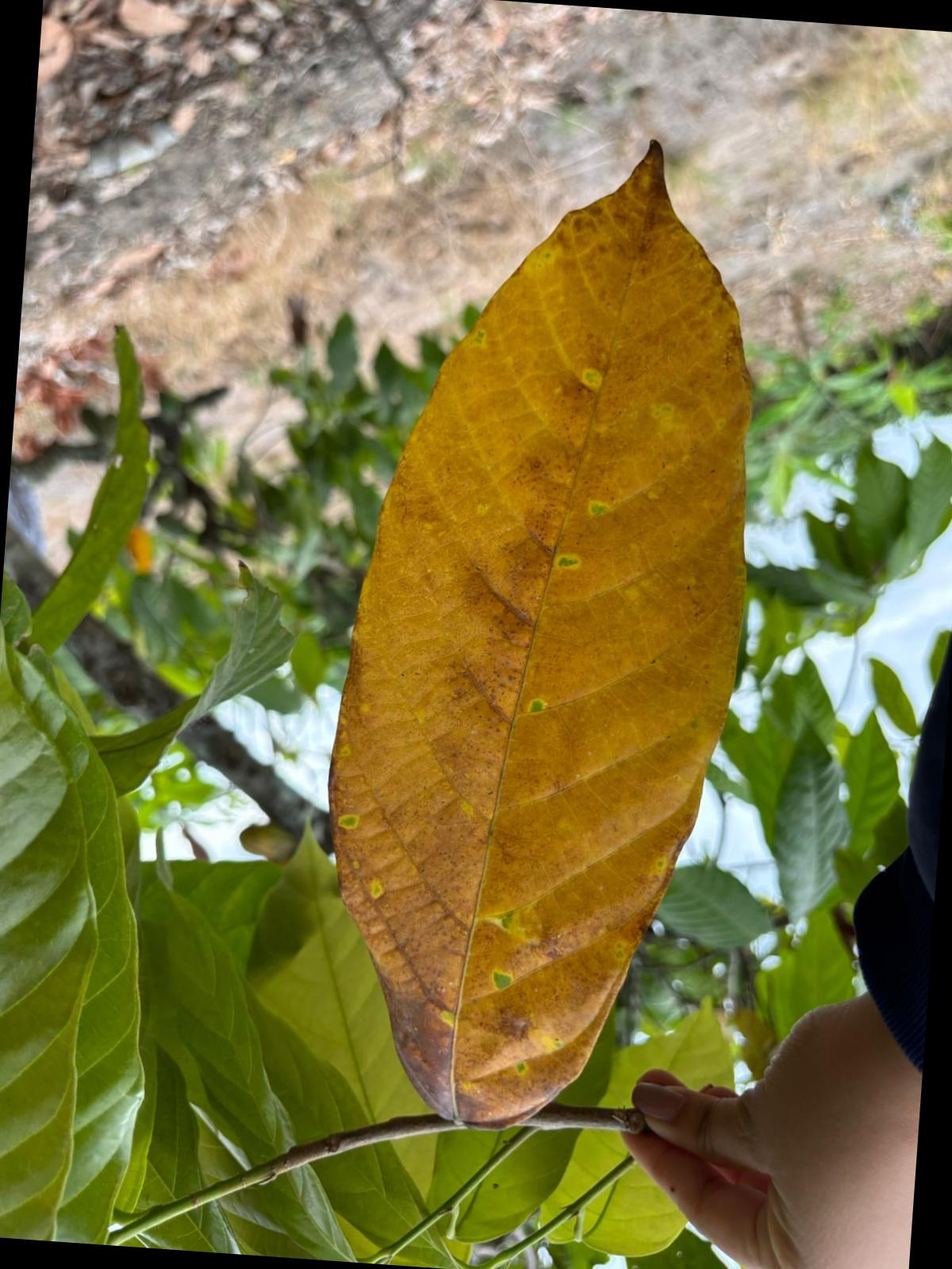Fosforo: (330, 145, 751, 1129)
